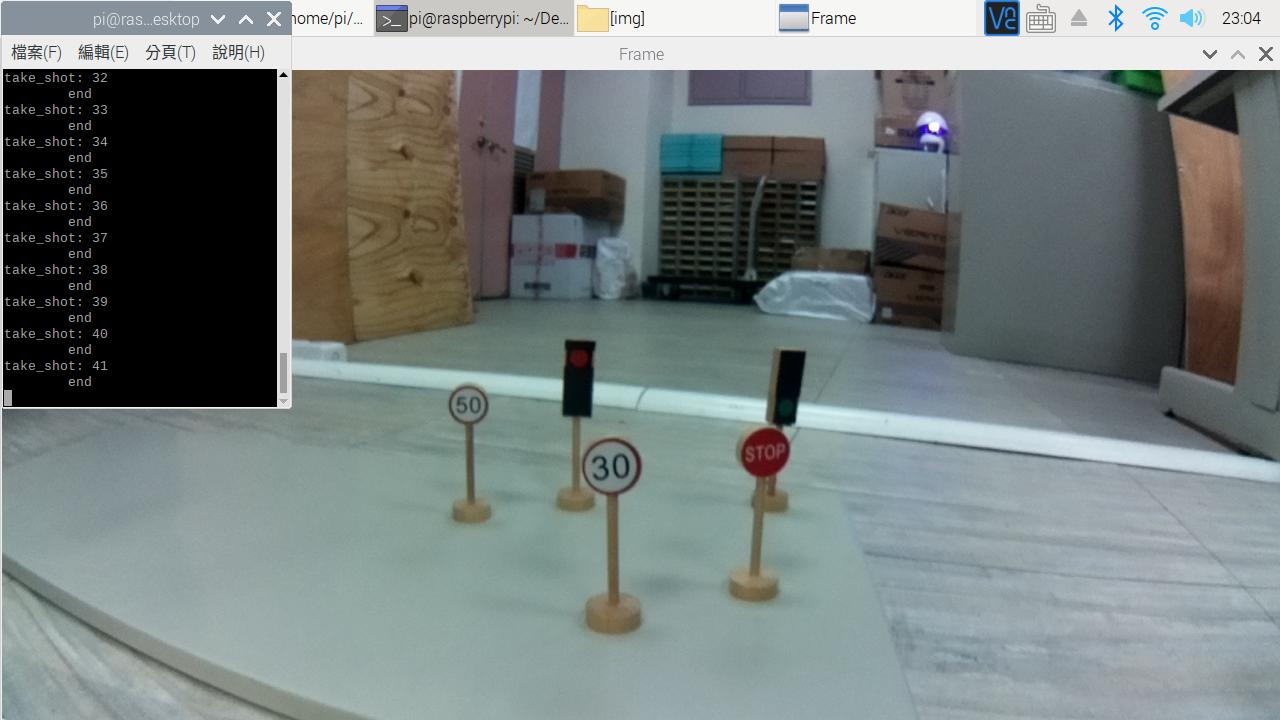Green: (771, 346, 801, 422)
Red: (558, 338, 596, 421)
Speed30: (584, 436, 638, 495)
Speed50: (446, 391, 489, 433)
Stop: (736, 427, 788, 478)
